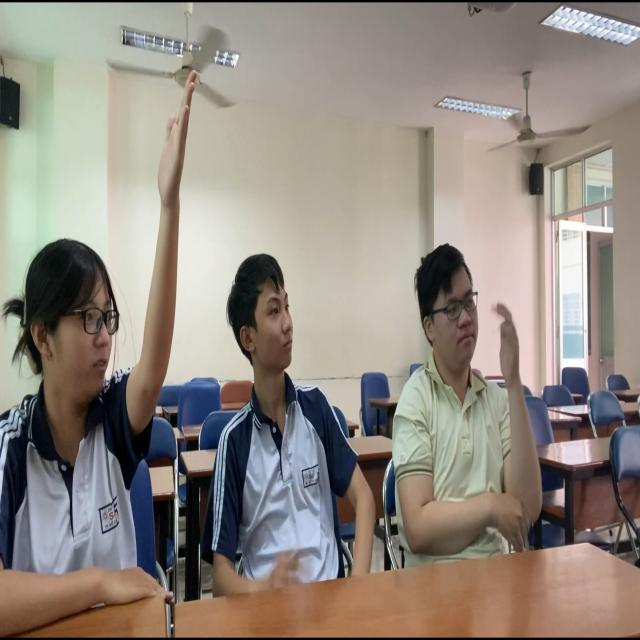raise_hand: (1, 57, 211, 640), (384, 239, 548, 560)
